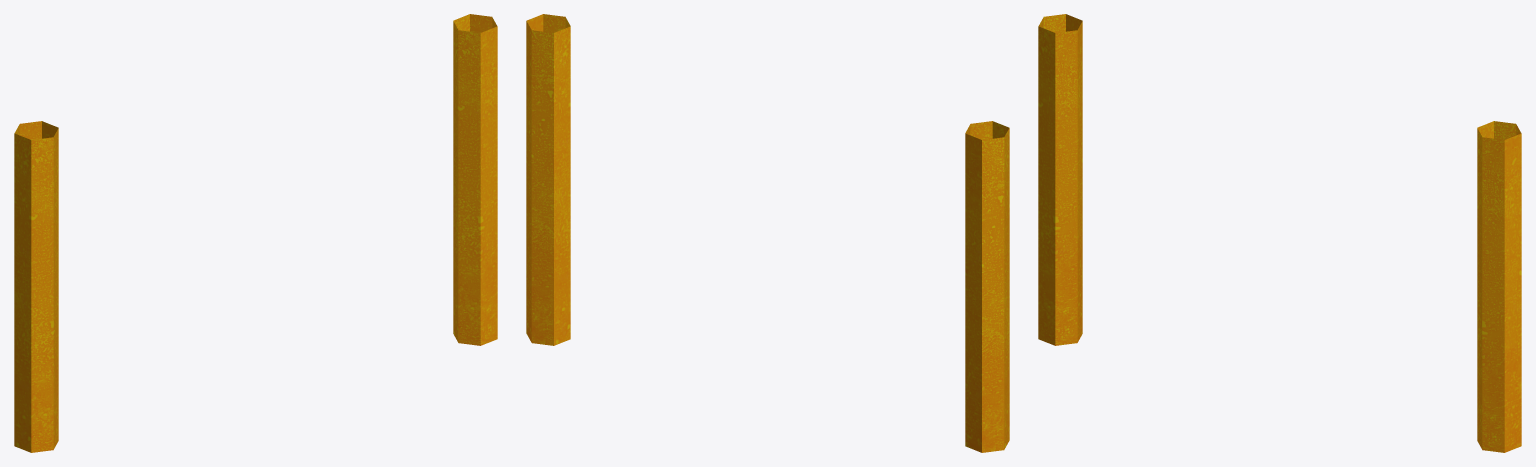
File: FacilityPillar_02_SM_Low.fbx
3 views of the same model, side by side, from view 1: azimuth 30°, elevation 25°; view 2: azimuth 150°, elevation 25°; view 3: azimuth 330°, elevation 25° (orthographic).
Visible parts, largest first — view 1: facility_pillar_02_geo; view 2: facility_pillar_02_geo; view 3: facility_pillar_02_geo.
Boxes of the visible parts, left/top/right/bottom form: facility_pillar_02_geo: left=14, top=14, right=497, bottom=452; facility_pillar_02_geo: left=526, top=14, right=1009, bottom=452; facility_pillar_02_geo: left=1038, top=14, right=1521, bottom=452.
Bounding box in the file's own units: 737 × 461 × 59.21.
Materials: 1 (1 with a texture image).
